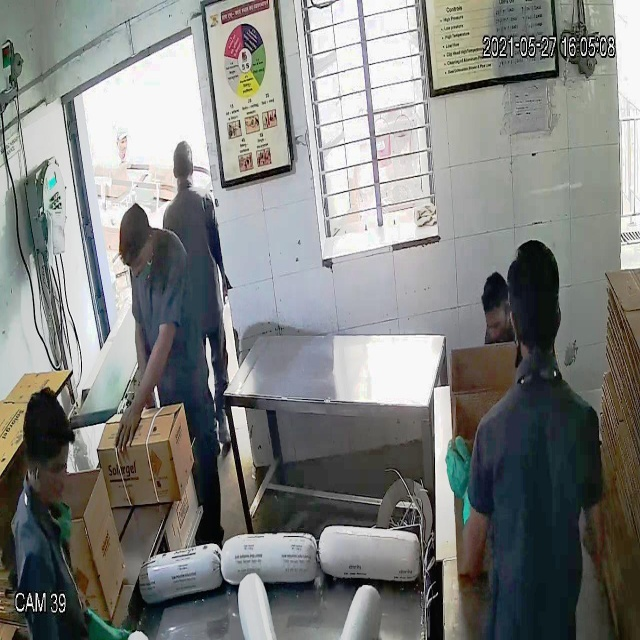Sin_gafas: (122, 248, 157, 282)
